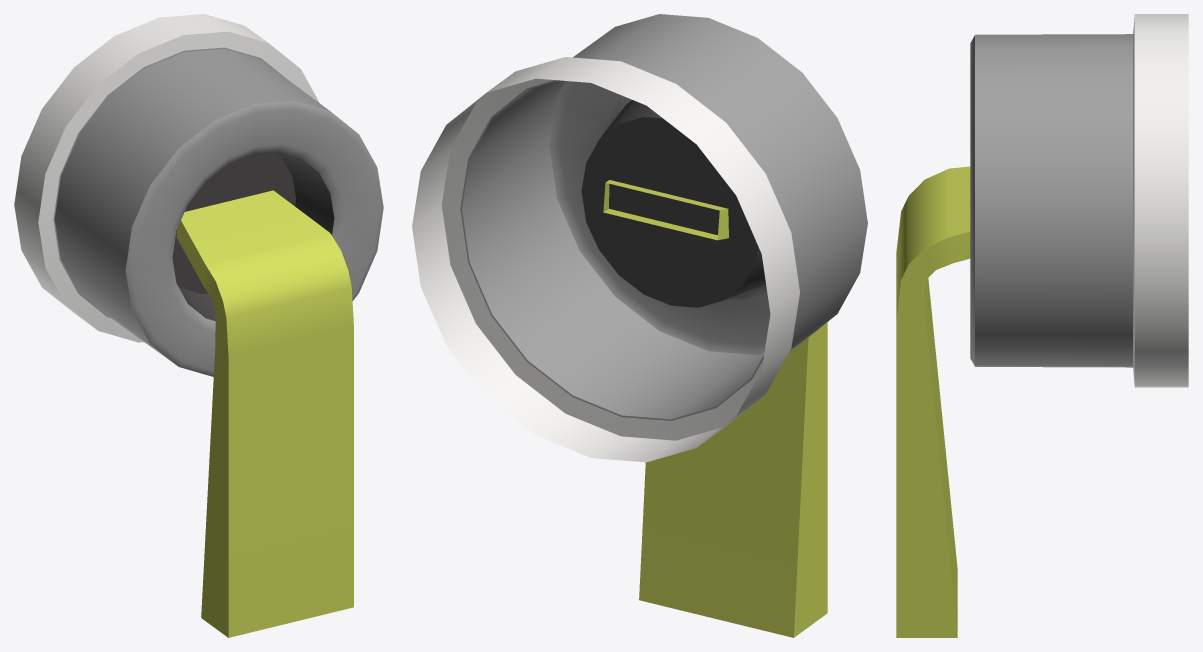
The model's file is Isl_20_Pipe_1.fbx.
3 renders of one model, left to right at view 1: azimuth 30°, elevation 25°; view 2: azimuth 150°, elevation 25°; view 3: azimuth 270°, elevation 25°, orthographic. The views are drawn at different scales.
Parts seen in each view (by area): view 1: Isl_20_Pipe_1; view 2: Isl_20_Pipe_1; view 3: Isl_20_Pipe_1.
Boxes of the visible parts, x1,y1,x2,y2 form: Isl_20_Pipe_1: [14, 14, 383, 637]; Isl_20_Pipe_1: [412, 14, 867, 637]; Isl_20_Pipe_1: [896, 14, 1188, 637].
Size of the model in its own units: 475 by 369 by 797.
Materials: 1 (1 with a texture image).
